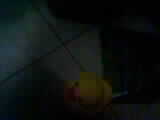duck: (62, 65, 112, 107)
